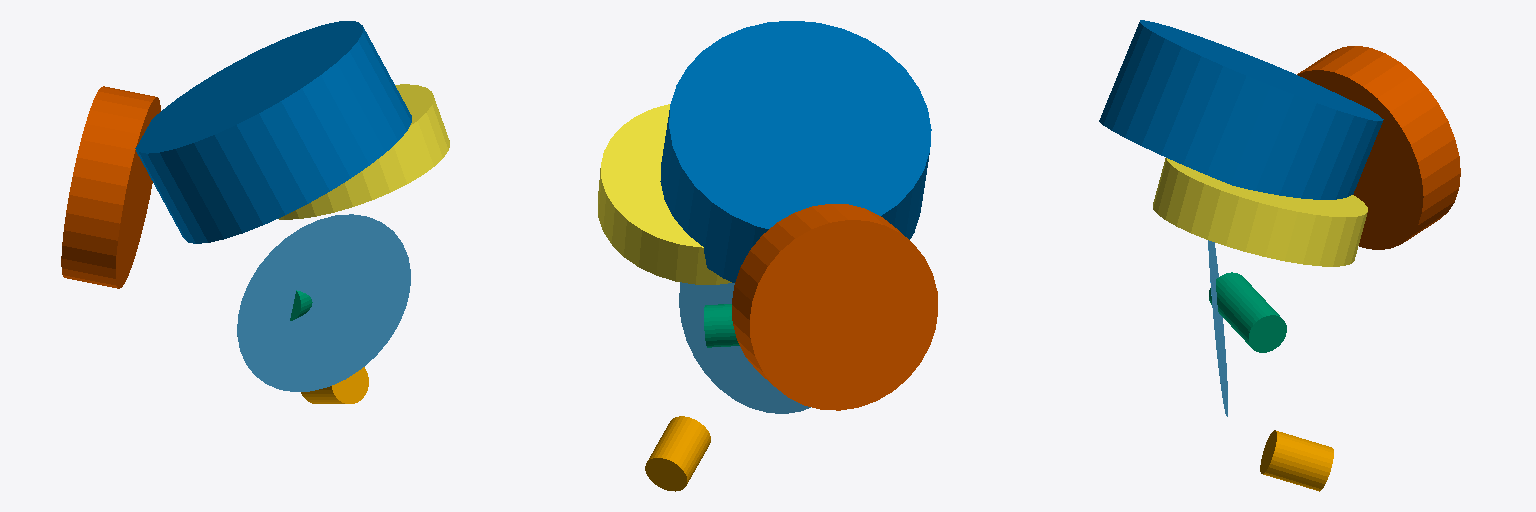
The robot description file, URDF, robot "pepe":
<robot name="pepe">
	<link name="0">
		<visual>
			<geometry>
				<cylinder length="0.019972807067224967" radius="0.002011686301548709"/>
			</geometry>
		</visual>
		<collision>
			<geometry>
				<cylinder length="0.019972807067224967" radius="0.002011686301548709"/>
			</geometry>
		</collision>
		<inertial>
			<mass value="2.5392735959833216e-07"/>
			<inertia ixx="0.03" iyy="0.03" izz="0.03" ixy="0" ixz="0" iyx="0"/>
		</inertial>
	</link>
	<link name="11">
		<visual>
			<geometry>
				<cylinder length="0.00018669200855736634" radius="0.6433571912630214"/>
			</geometry>
		</visual>
		<collision>
			<geometry>
				<cylinder length="0.00018669200855736634" radius="0.6433571912630214"/>
			</geometry>
		</collision>
		<inertial>
			<mass value="0.00024276156039558443"/>
			<inertia ixx="0.03" iyy="0.03" izz="0.03" ixy="0" ixz="0" iyx="0"/>
		</inertial>
	</link>
	<link name="22">
		<visual>
			<geometry>
				<cylinder length="0.5825346973094198" radius="0.1344101030337398"/>
			</geometry>
		</visual>
		<collision>
			<geometry>
				<cylinder length="0.5825346973094198" radius="0.1344101030337398"/>
			</geometry>
		</collision>
		<inertial>
			<mass value="0.03306248549946934"/>
			<inertia ixx="0.03" iyy="0.03" izz="0.03" ixy="0" ixz="0" iyx="0"/>
		</inertial>
	</link>
	<link name="53">
		<visual>
			<geometry>
				<cylinder length="0.32991061629635154" radius="0.659888503144035"/>
			</geometry>
		</visual>
		<collision>
			<geometry>
				<cylinder length="0.32991061629635154" radius="0.659888503144035"/>
			</geometry>
		</collision>
		<inertial>
			<mass value="0.45132281440264777"/>
			<inertia ixx="0.03" iyy="0.03" izz="0.03" ixy="0" ixz="0" iyx="0"/>
		</inertial>
	</link>
	<link name="34">
		<visual>
			<geometry>
				<cylinder length="0.6767822617877952" radius="0.8325034157491421"/>
			</geometry>
		</visual>
		<collision>
			<geometry>
				<cylinder length="0.6767822617877952" radius="0.8325034157491421"/>
			</geometry>
		</collision>
		<inertial>
			<mass value="1.473570397274502"/>
			<inertia ixx="0.03" iyy="0.03" izz="0.03" ixy="0" ixz="0" iyx="0"/>
		</inertial>
	</link>
	<link name="45">
		<visual>
			<geometry>
				<cylinder length="0.358516004105492" radius="0.6289221186312428"/>
			</geometry>
		</visual>
		<collision>
			<geometry>
				<cylinder length="0.358516004105492" radius="0.6289221186312428"/>
			</geometry>
		</collision>
		<inertial>
			<mass value="0.4455045639168888"/>
			<inertia ixx="0.03" iyy="0.03" izz="0.03" ixy="0" ixz="0" iyx="0"/>
		</inertial>
	</link>
	<link name="66">
		<visual>
			<geometry>
				<cylinder length="0.00153756204312816" radius="0.02708229181987041"/>
			</geometry>
		</visual>
		<collision>
			<geometry>
				<cylinder length="0.00153756204312816" radius="0.02708229181987041"/>
			</geometry>
		</collision>
		<inertial>
			<mass value="3.5428547611058314e-06"/>
			<inertia ixx="0.03" iyy="0.03" izz="0.03" ixy="0" ixz="0" iyx="0"/>
		</inertial>
	</link>
	<link name="67">
		<visual>
			<geometry>
				<cylinder length="0.00153756204312816" radius="0.02708229181987041"/>
			</geometry>
		</visual>
		<collision>
			<geometry>
				<cylinder length="0.00153756204312816" radius="0.02708229181987041"/>
			</geometry>
		</collision>
		<inertial>
			<mass value="3.5428547611058314e-06"/>
			<inertia ixx="0.03" iyy="0.03" izz="0.03" ixy="0" ixz="0" iyx="0"/>
		</inertial>
	</link>
	<link name="78">
		<visual>
			<geometry>
				<cylinder length="0.38568033073831387" radius="0.14498309565483913"/>
			</geometry>
		</visual>
		<collision>
			<geometry>
				<cylinder length="0.38568033073831387" radius="0.14498309565483913"/>
			</geometry>
		</collision>
		<inertial>
			<mass value="0.02546901215002619"/>
			<inertia ixx="0.03" iyy="0.03" izz="0.03" ixy="0" ixz="0" iyx="0"/>
		</inertial>
	</link>
	<joint name="11_to_0" type="revolute">
		<parent link="0"/>
		<child link="11"/>
		<axis xyz="0 0 1"/>
		<limit effort="1" upper="-3.1415" lower="3.1415" velocity="1"/>
		<origin rpy="4.599220098856529 3.612390086619138 0.046742745195824255" xyz="0.6270726565351545 0.45386870664634127 0.9934344682645572"/>
	</joint>
	<joint name="22_to_11" type="revolute">
		<parent link="11"/>
		<child link="22"/>
		<axis xyz="1 0 0"/>
		<limit effort="1" upper="-3.1415" lower="3.1415" velocity="1"/>
		<origin rpy="11.626505171087503 5.516802298202429 0.7791319437868018" xyz="0.0019279200350848108 0.0005248485264476697 0.18877120123119884"/>
	</joint>
	<joint name="53_to_22" type="revolute">
		<parent link="22"/>
		<child link="53"/>
		<axis xyz="0 0 1"/>
		<limit effort="1" upper="-3.1415" lower="3.1415" velocity="1"/>
		<origin rpy="0.10051264616390823 1.3953726500600625 3.620509695951334" xyz="0.6345348520150791 0.6369416216841768 0.23249578398044024"/>
	</joint>
	<joint name="34_to_11" type="revolute">
		<parent link="11"/>
		<child link="34"/>
		<axis xyz="0 1 0"/>
		<limit effort="1" upper="-3.1415" lower="3.1415" velocity="1"/>
		<origin rpy="15.855197879314145 4.22851677776207 0.5600087386388388" xyz="0.807546668794237 0.9347432046170919 0.26792392211434435"/>
	</joint>
	<joint name="45_to_34" type="revolute">
		<parent link="34"/>
		<child link="45"/>
		<axis xyz="0 1 0"/>
		<limit effort="1" upper="-3.1415" lower="3.1415" velocity="1"/>
		<origin rpy="6.785089119530647 2.3121756090544063 4.853502502754321" xyz="0.7134389939078161 0.9788641507588274 0.06884801253084266"/>
	</joint>
	<joint name="66_to_11" type="revolute">
		<parent link="11"/>
		<child link="66"/>
		<axis xyz="0 0 1"/>
		<limit effort="1" upper="-3.1415" lower="3.1415" velocity="1"/>
		<origin rpy="8.017034822677475 0.49041554351940575 3.3105613913002006" xyz="0.7252082934959747 0.33647244760358364 0.807868748932156"/>
	</joint>
	<joint name="67_to_11" type="revolute">
		<parent link="11"/>
		<child link="67"/>
		<axis xyz="0 0 1"/>
		<limit effort="1" upper="-3.1415" lower="3.1415" velocity="1"/>
		<origin rpy="10.021293528346844 0.49041554351940575 3.3105613913002006" xyz="0.7252082934959747 0.33647244760358364 0.807868748932156"/>
	</joint>
	<joint name="78_to_0" type="revolute">
		<parent link="0"/>
		<child link="78"/>
		<axis xyz="1 0 0"/>
		<limit effort="1" upper="-3.1415" lower="3.1415" velocity="1"/>
		<origin rpy="1.1154521210637325 5.645245554031331 0.3804203609110539" xyz="0.9868216203458197 0.9527891737852079 0.1514539156005167"/>
	</joint>
</robot>

--- Facts derived from the render (not from the file) ---
The picture shows the robot from 3 angles, left to right: view 1: azimuth 30°, elevation 25°; view 2: azimuth 150°, elevation 25°; view 3: azimuth 270°, elevation 25°; orthographic projection.
Model pepe with 9 links and 8 joints (8 revolute), rooted at 0, posed every joint at zero.
Visible links, largest first — view 1: 34, 11, 45, 53, 78; view 2: 34, 45, 53, 11, 78, 22; view 3: 34, 45, 53, 22, 78, 11.
Link boxes in pixels (x1,y1,x2,y2): 34: (135,21,411,243); 11: (237,214,410,391); 45: (61,86,160,288); 53: (279,84,449,219); 78: (301,367,368,403); 34: (660,21,931,282); 45: (732,204,937,410); 53: (598,104,731,284); 11: (679,282,810,413); 78: (645,416,710,491); 22: (704,304,739,347); 34: (1099,20,1383,199); 45: (1297,46,1460,249); 53: (1153,158,1367,266); 22: (1209,272,1286,352); 78: (1260,430,1333,491); 11: (1208,240,1227,416).
Bounding box of the posed robot: 2.58 × 2.28 × 2.97 m (x, y, z).
Geometry: primitives only (box / cylinder / sphere), no mesh files.
